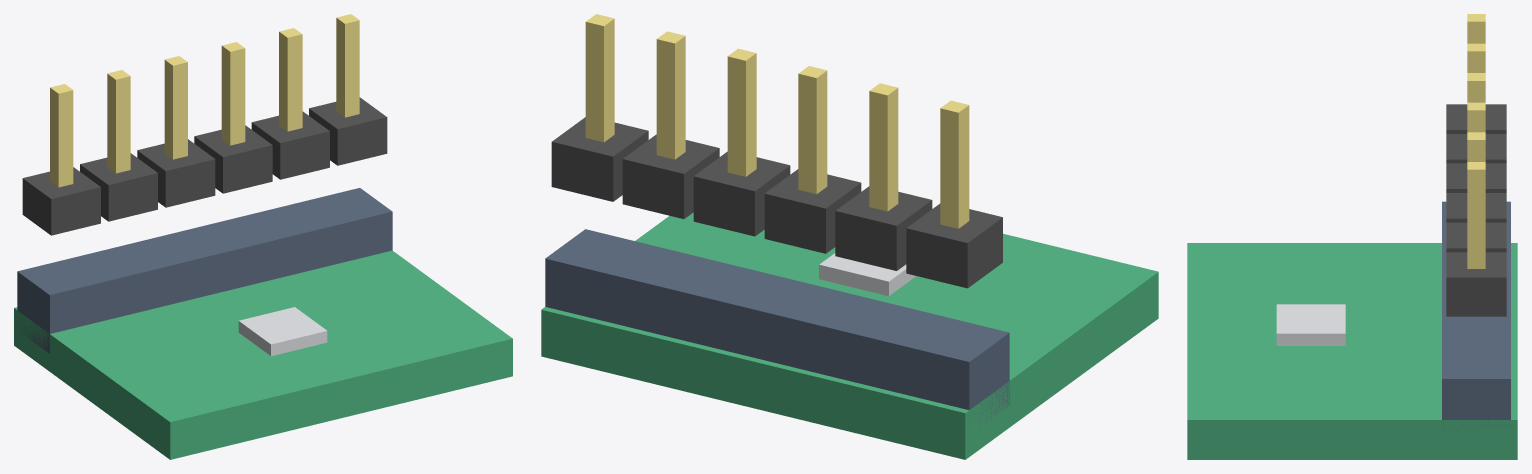
File: bme280-environmental.glb
3 views of the same model, side by side, from view 1: azimuth 30°, elevation 25°; view 2: azimuth 150°, elevation 25°; view 3: azimuth 270°, elevation 25° (orthographic). The views are drawn at different scales.
Parts seen in each view (by area): view 1: bme280-environmental_mesh; view 2: bme280-environmental_mesh; view 3: bme280-environmental_mesh.
Part boxes in pixels (x1=…): bme280-environmental_mesh: x1=14, y1=14, x2=512, y2=459; bme280-environmental_mesh: x1=541, y1=14, x2=1158, y2=459; bme280-environmental_mesh: x1=1187, y1=14, x2=1517, y2=459.
Bounding box in the file's own units: 15.2 × 11.2 × 12.
